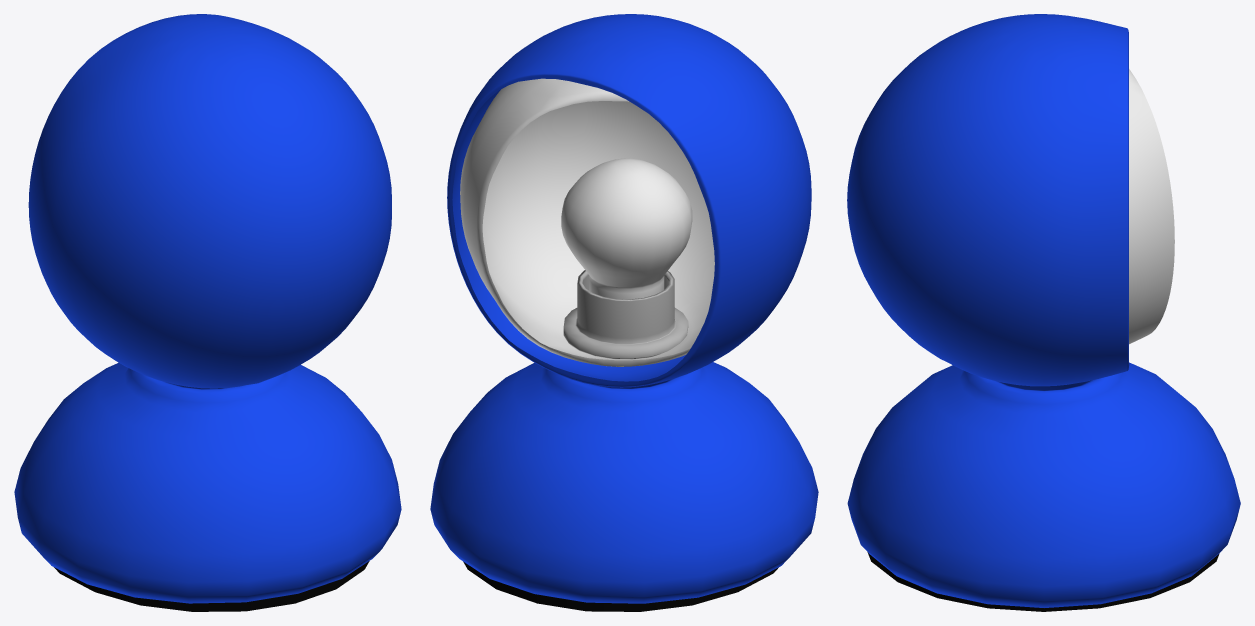
The model's file is eclisse.fbx.
The picture shows the model from 3 angles, left to right: view 1: azimuth 30°, elevation 25°; view 2: azimuth 150°, elevation 25°; view 3: azimuth 270°, elevation 25°; orthographic projection.
Parts seen in each view (by area): view 1: lampada_inferiore1, base; view 2: lampada_inferiore1, sfera_esterna1, lampadina, porta_lampadina, base; view 3: lampada_inferiore1, sfera_esterna1, base.
Boxes of the visible parts, box(x1,y1,x2,y2) form: lampada_inferiore1: box(14, 14, 401, 603); base: box(54, 561, 369, 611); lampada_inferiore1: box(430, 14, 818, 603); sfera_esterna1: box(460, 78, 714, 366); lampadina: box(561, 158, 692, 299); porta_lampadina: box(563, 270, 688, 359); base: box(463, 561, 778, 611); lampada_inferiore1: box(847, 14, 1240, 607); sfera_esterna1: box(1129, 69, 1174, 344); base: box(867, 552, 1219, 611).
Bounding box in the file's own units: 11.87 × 16.95 × 11.86.
Materials: 5 (1 with a texture image).
